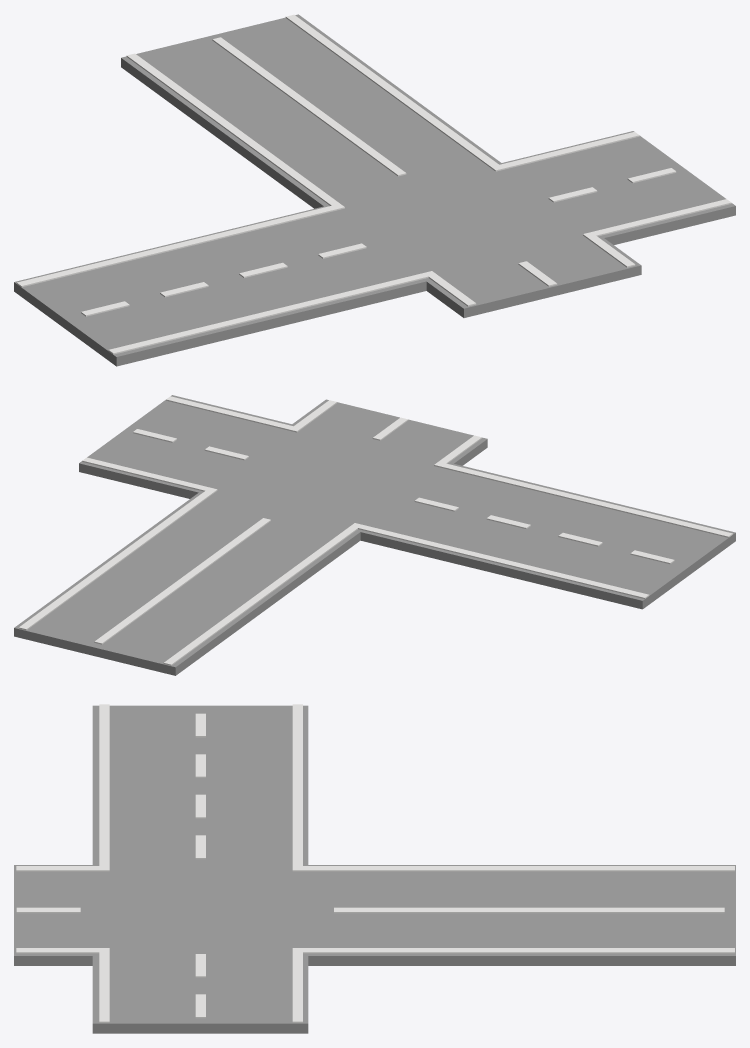
File: Isl_20_Intersection_1.fbx
The picture shows the model from 3 angles, top to bottom: view 1: azimuth 30°, elevation 25°; view 2: azimuth 150°, elevation 25°; view 3: azimuth 270°, elevation 25°; orthographic projection. The views are drawn at different scales.
Parts seen in each view (by area): view 1: Isl_20_Intersection_1; view 2: Isl_20_Intersection_1; view 3: Isl_20_Intersection_1.
Boxes of the visible parts, x1=… form: Isl_20_Intersection_1: x1=14, y1=14, x2=735, y2=366; Isl_20_Intersection_1: x1=14, y1=395, x2=735, y2=675; Isl_20_Intersection_1: x1=14, y1=704, x2=735, y2=1033.
Size of the model in its own units: 1725 by 1654 by 28.74.
1 material, 1 textured.
